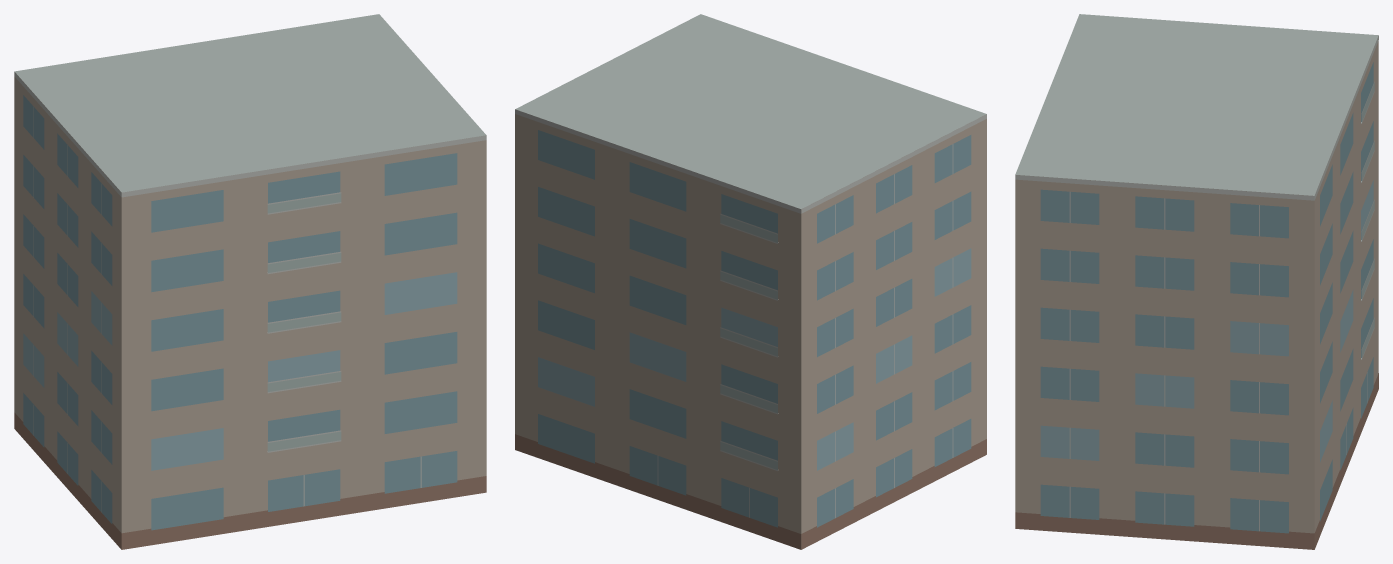
Rendered from survey-upis-32631675.glb.
3 renders of one model, left to right at view 1: azimuth 30°, elevation 25°; view 2: azimuth 150°, elevation 25°; view 3: azimuth 270°, elevation 25°, orthographic. The views are drawn at different scales.
Visible parts, largest first — view 1: survey-upis-32631675.tmp; view 2: survey-upis-32631675.tmp; view 3: survey-upis-32631675.tmp.
Boxes of the visible parts, x1,y1,x2,y2 form: survey-upis-32631675.tmp: [14, 14, 486, 549]; survey-upis-32631675.tmp: [515, 14, 986, 549]; survey-upis-32631675.tmp: [1015, 14, 1378, 549].
Bounding box in the file's own units: 19.73 × 17.9 × 16.67.
